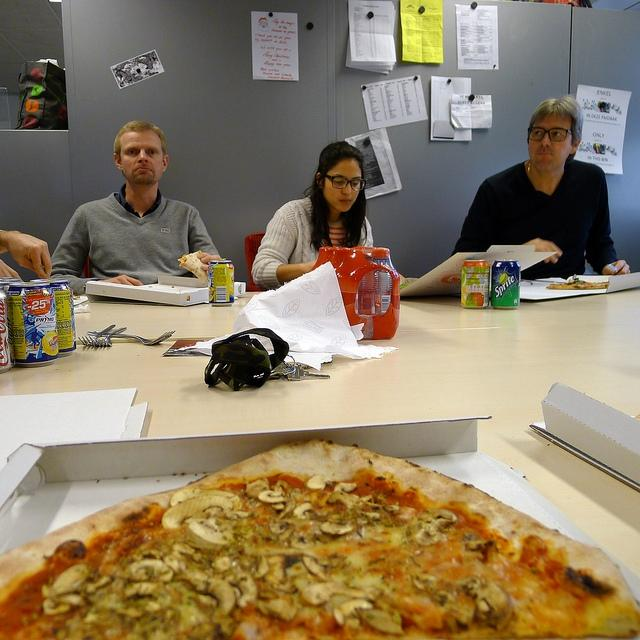mushroom: (160, 494, 234, 529), (299, 580, 370, 608), (432, 590, 476, 632), (170, 488, 242, 512), (476, 579, 512, 620), (207, 578, 237, 626), (358, 608, 404, 634), (225, 572, 258, 608), (188, 518, 228, 546), (52, 564, 89, 594), (42, 584, 90, 607), (124, 582, 164, 602), (274, 518, 322, 534), (128, 558, 164, 579), (339, 598, 374, 619), (302, 556, 330, 582), (328, 490, 360, 509), (414, 526, 442, 546), (258, 485, 287, 504), (304, 474, 332, 492), (320, 522, 354, 535), (428, 508, 458, 522), (334, 482, 358, 499), (270, 516, 290, 536), (292, 502, 314, 520), (157, 564, 176, 584), (197, 594, 218, 608), (314, 506, 334, 518)
